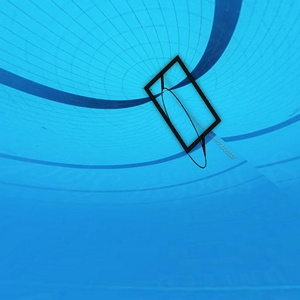circle: (142, 54, 225, 173)
